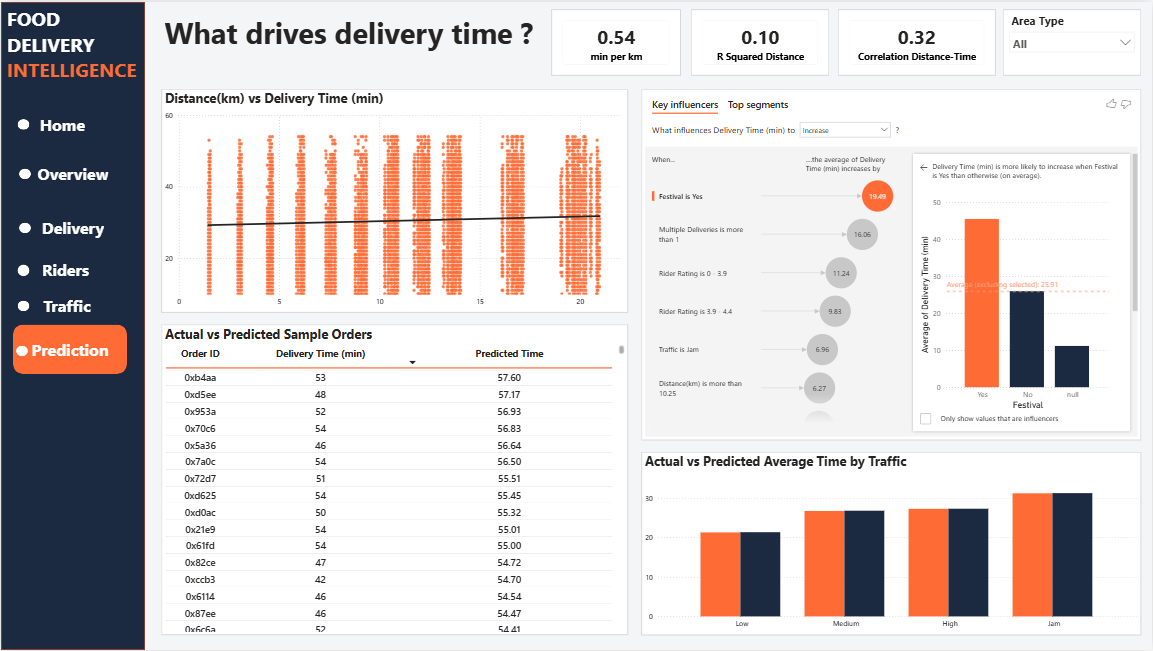

The dashboard page shown, as its layout file describes it:
{"tool":"powerbi","page":{"name":"Prediction","canvas":[1920,1080],"ordinal":5},"visuals":[{"type":"group","id":"g1","title":"Group 4","box":[0,0,241.2,1080],"z":0},{"type":"group","id":"g2","title":"Group 3","box":[0,0,241.2,1080],"z":0,"group":"g1"},{"type":"shape","box":[0,0,240,1080],"z":0,"group":"g3"},{"type":"shape","box":[8,162.5,190,82.5],"z":0,"group":"g5"},{"type":"shape","box":[25,245,190,82.5],"z":0,"group":"g4"},{"type":"shape","box":[25,335,190,82.5],"z":0,"group":"g6"},{"type":"shape","box":[13,401,190,90],"z":0,"group":"g7"},{"type":"shape","box":[15,465,190,82.5],"z":0,"group":"g8"},{"type":"shape","box":[18.8,536.2,190,82.5],"z":0,"group":"g9"},{"type":"textbox","box":[3.8,0,237.5,142.5],"z":1000,"group":"g3"},{"type":"cardVisual","fields":{"Data":["_Measures (2).Correlation Distance-Time"]},"box":[1394,12.5,262.5,110],"z":1000},{"type":"shape","box":[29.1,195.4,20,18],"z":1000,"group":"g5"},{"type":"shape","box":[29.1,277.9,20,18],"z":1000,"group":"g4"},{"type":"shape","box":[29.1,367.9,20,18],"z":1000,"group":"g6"},{"type":"shape","box":[29.1,438.4,20,19.7],"z":1000,"group":"g7"},{"type":"shape","box":[28,497.9,20,18],"z":1000,"group":"g8"},{"type":"shape","box":[23.8,570.4,20,18],"z":1000,"group":"g9"},{"type":"cardVisual","fields":{"Data":["_Measures (2).R Squared Distance"]},"box":[1149,12.5,230,110],"z":2000},{"type":"cardVisual","fields":{"Data":["_Measures (2).Slope (min per km)"]},"box":[917.5,12.5,215,110],"z":3000},{"type":"scatterChart","title":"Distance(km) vs Delivery Time (min) ","fields":{"Category":["Fact Delivery.Order ID"],"X":["Fact Delivery.Distance(km)"],"Y":["Fact Delivery.Delivery Time (min)"]},"box":[267.5,145,777.5,372.5],"z":4000},{"type":"clusteredColumnChart","title":"Actual vs Predicted Average Time by Traffic","fields":{"Y":["_Measures (2).Avg Delivery Time","_Measures (2).Avg Predicted Time"],"Category":["Fact Delivery.Traffic"]},"box":[1067.5,750,832.5,305],"z":5000},{"type":"group","id":"g3","title":"Group 1","box":[0,0,241.2,1080],"z":6000,"group":"g2"},{"type":"keyDriversVisual","fields":{"Target":["Fact Delivery.Delivery Time (min)"],"ExplainBy":["Fact Delivery.Traffic","Fact Delivery.Weather","Fact Delivery.Multiple Deliveries","Fact Delivery.Rider Rating","Fact Delivery.Rider Age","Fact Delivery.Vehicle Type","Fact Delivery.Festival","Fact Delivery.Order Type","Fact Delivery.Distance(km)"]},"box":[1067.5,145,832.5,585],"z":6000},{"type":"tableEx","title":"Actual vs Predicted Sample Orders","fields":{"Values":["Fact Delivery.Order ID","Fact Delivery.Delivery Time (min)","Fact Delivery.Predicted Time"]},"box":[267.5,537.5,777.5,517.5],"z":7000},{"type":"textbox","box":[267.5,12.5,777.5,77.5],"z":8000},{"type":"slicer","fields":{"Values":["Fact Delivery.Area Type"]},"box":[1670,12.5,230,110],"z":9000},{"type":"group","id":"g4","title":"Group 2","box":[25,245,190,82.5],"z":13000,"group":"g2"},{"type":"group","id":"g5","title":"Group 2","box":[8,162.5,190,82.5],"z":14000,"group":"g2"},{"type":"group","id":"g6","title":"Group 2","box":[25,335,190,82.5],"z":15000,"group":"g2"},{"type":"group","id":"g7","title":"Group 2","box":[13,401,190,90],"z":17000,"group":"g2"},{"type":"group","id":"g8","title":"Group 2","box":[15,465,190,82.5],"z":18000,"group":"g1"},{"type":"group","id":"g9","title":"Group 2","box":[18.8,536.2,190,82.5],"z":18000,"group":"g2"}]}

Visuals, with their boxes on the page's 1920x1080 design canvas (x1, y1, x2, y2). These are canvas units, not pixel positions in the 1153x651 screenshot, which may show the page scaled, cropped or inside an application window:
"Group 4" group: rect(0, 0, 241, 1080)
"Group 3" group: rect(0, 0, 241, 1080)
shape: rect(0, 0, 240, 1080)
shape: rect(8, 162, 198, 245)
shape: rect(25, 245, 215, 328)
shape: rect(25, 335, 215, 418)
shape: rect(13, 401, 203, 491)
shape: rect(15, 465, 205, 548)
shape: rect(19, 536, 209, 619)
textbox: rect(4, 0, 241, 142)
cardVisual - _Measures (2).Correlation Distance-Time: rect(1394, 12, 1656, 122)
shape: rect(29, 195, 49, 213)
shape: rect(29, 278, 49, 296)
shape: rect(29, 368, 49, 386)
shape: rect(29, 438, 49, 458)
shape: rect(28, 498, 48, 516)
shape: rect(24, 570, 44, 588)
cardVisual - _Measures (2).R Squared Distance: rect(1149, 12, 1379, 122)
cardVisual - _Measures (2).Slope (min per km): rect(918, 12, 1132, 122)
"Distance(km) vs Delivery Time (min) " scatterChart: rect(268, 145, 1045, 518)
"Actual vs Predicted Average Time by Traffic" clusteredColumnChart: rect(1068, 750, 1900, 1055)
"Group 1" group: rect(0, 0, 241, 1080)
keyDriversVisual - Fact Delivery.Delivery Time (min) x Fact Delivery.Traffic: rect(1068, 145, 1900, 730)
"Actual vs Predicted Sample Orders" tableEx: rect(268, 538, 1045, 1055)
textbox: rect(268, 12, 1045, 90)
slicer - Fact Delivery.Area Type: rect(1670, 12, 1900, 122)
"Group 2" group: rect(25, 245, 215, 328)
"Group 2" group: rect(8, 162, 198, 245)
"Group 2" group: rect(25, 335, 215, 418)
"Group 2" group: rect(13, 401, 203, 491)
"Group 2" group: rect(15, 465, 205, 548)
"Group 2" group: rect(19, 536, 209, 619)
